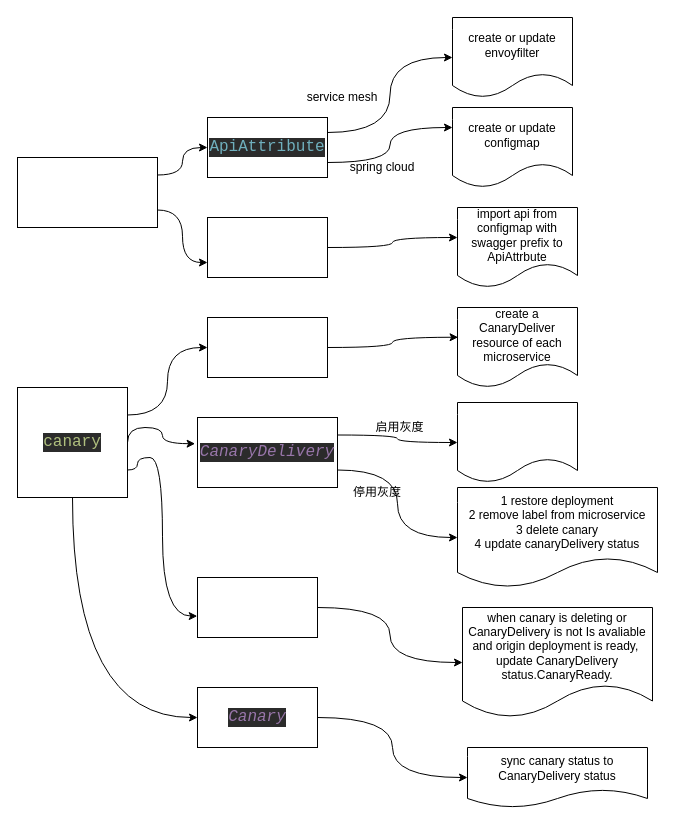
Image size: 675x825. Some labels were removed from this diagram. The shapes that lost their labels are listed below. From the top down, each one's box as (x1, y1, x2, y2) in pixels, then its label:
(16, 156, 158, 228): ApiEnvoyFilter
(206, 216, 328, 278): ConfigMap
(206, 316, 328, 378): MicroService
(456, 402, 578, 482): create Canary
(196, 576, 318, 638): Deployment
